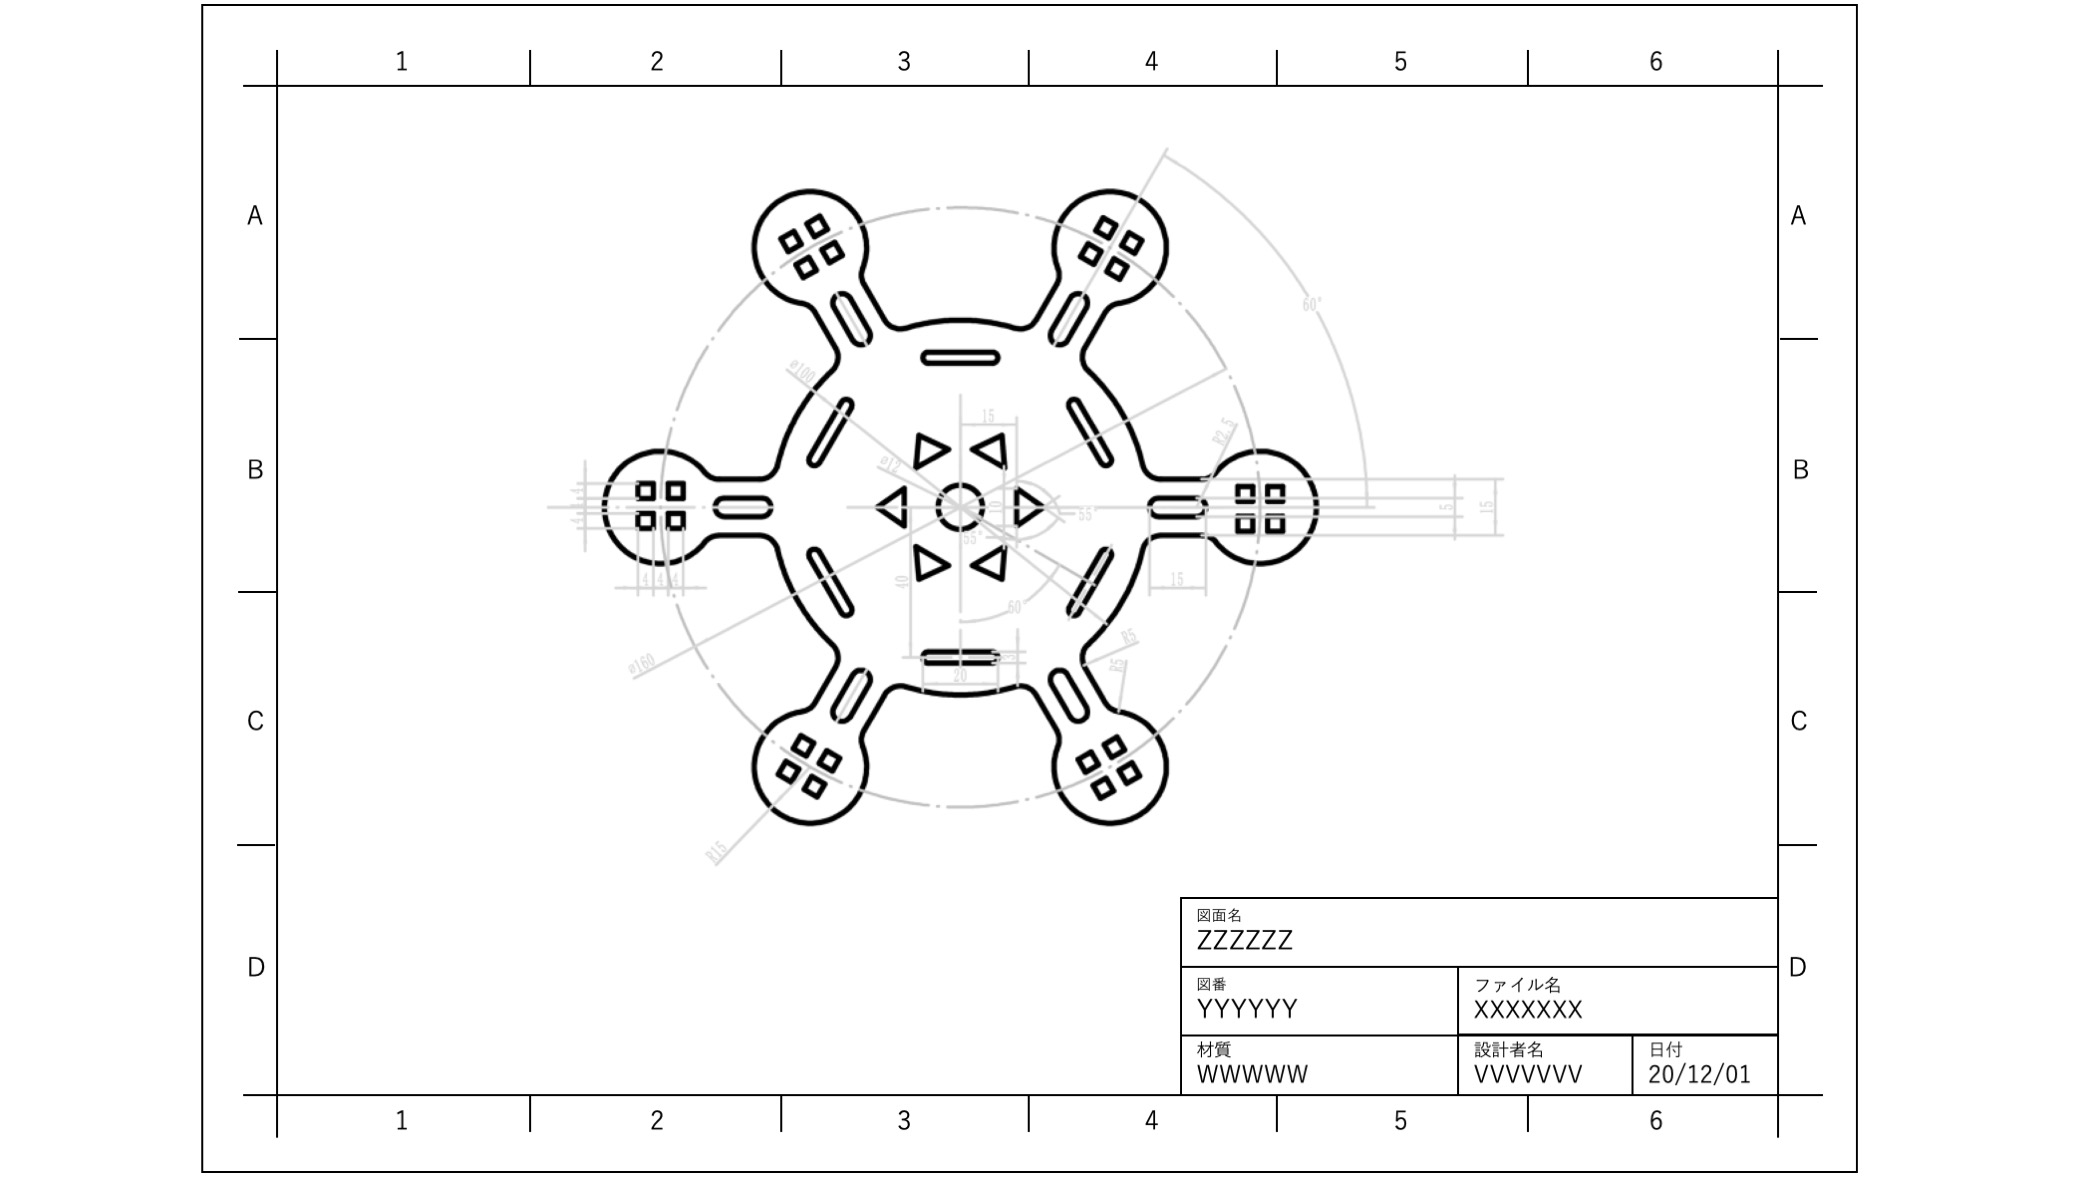circle: (935, 466, 988, 535)
rectangle: (780, 722, 824, 761), (627, 493, 659, 534), (626, 466, 658, 503), (1072, 235, 1109, 267), (662, 466, 691, 506), (1118, 221, 1147, 260), (816, 229, 847, 265), (773, 226, 808, 257), (1261, 474, 1297, 503), (1072, 743, 1102, 776), (1100, 252, 1131, 284), (798, 771, 831, 800), (816, 740, 844, 774), (772, 756, 802, 786), (800, 203, 829, 235), (658, 500, 685, 534), (1230, 506, 1258, 538), (792, 252, 819, 283), (1092, 211, 1119, 241), (1121, 753, 1150, 780), (1236, 474, 1258, 510), (1259, 512, 1292, 534), (1103, 728, 1125, 757), (1090, 776, 1116, 799)
round_rectangle: (1060, 384, 1118, 470), (803, 536, 861, 622), (1041, 660, 1099, 733), (1064, 539, 1116, 617), (826, 656, 871, 743), (913, 629, 1005, 671), (806, 386, 855, 464), (1046, 283, 1093, 350), (1139, 483, 1209, 529), (705, 483, 777, 521), (825, 290, 875, 342), (917, 342, 1005, 371)
triangle: (900, 418, 955, 480), (974, 418, 1023, 487), (862, 476, 919, 531), (965, 536, 1018, 580), (907, 536, 950, 587), (1010, 476, 1049, 529)
